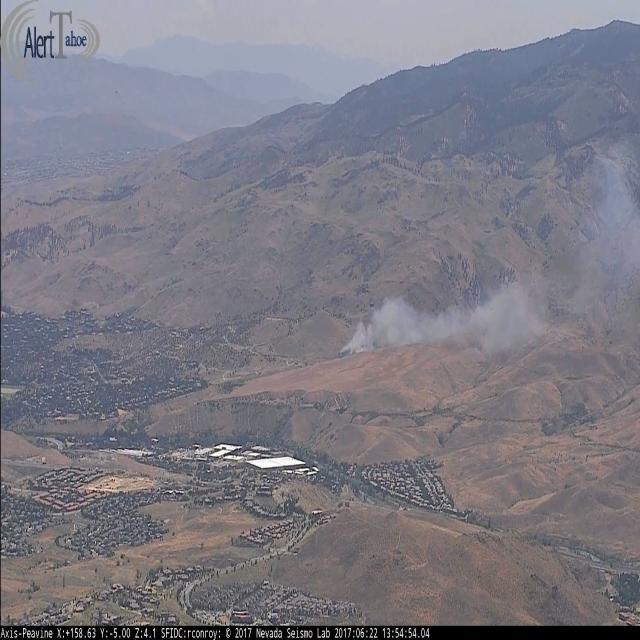smoke: (338, 270, 536, 366)
